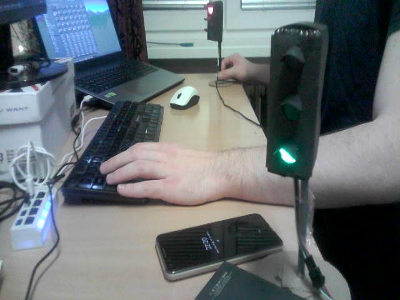trafficlight_green: (269, 35, 315, 171)
trafficlight_red: (206, 1, 221, 39)
